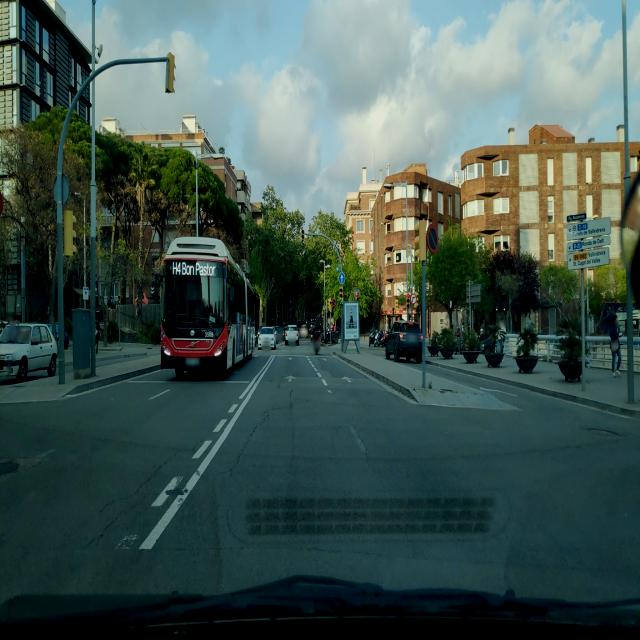car: (0, 320, 59, 386), (384, 319, 424, 363), (45, 322, 71, 352), (257, 326, 277, 351), (284, 323, 300, 346)
